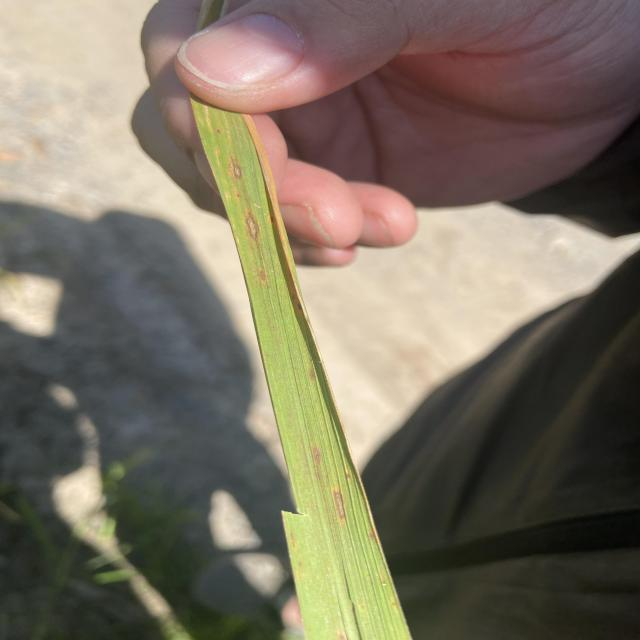Dao on: (246, 213, 260, 237), (333, 492, 344, 519), (232, 166, 240, 178)
